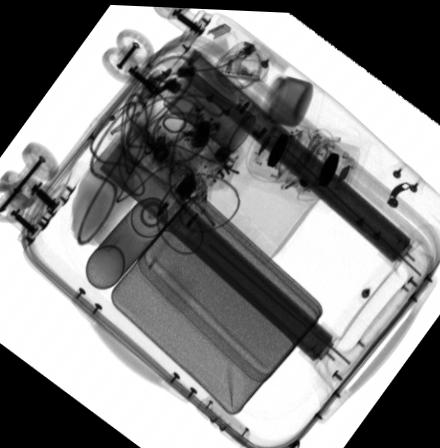Sprayer: (84, 178, 184, 288)
